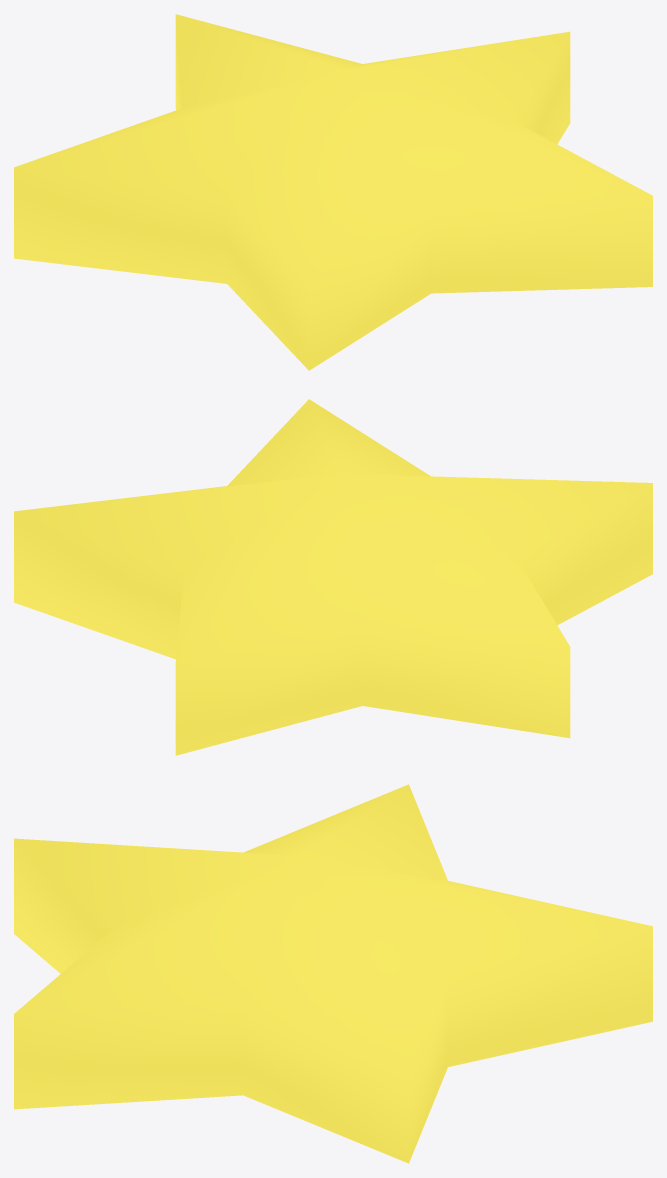
File: smallStar.glb
3 views of the same model, one above another, from view 1: azimuth 30°, elevation 25°; view 2: azimuth 150°, elevation 25°; view 3: azimuth 270°, elevation 25° (orthographic). The views are drawn at different scales.
Parts seen in each view (by area): view 1: Star; view 2: Star; view 3: Star.
Boxes of the visible parts, x1,y1,x2,y2 form: Star: (14, 14, 652, 370); Star: (14, 399, 652, 755); Star: (14, 784, 652, 1163).
Bounding box in the file's own units: 3.23 × 1.25 × 3.07.
